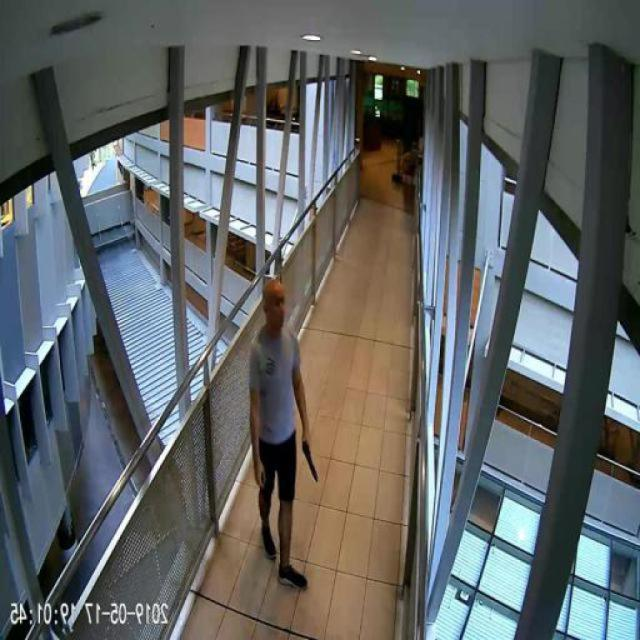pistol: (304, 432, 320, 478)
